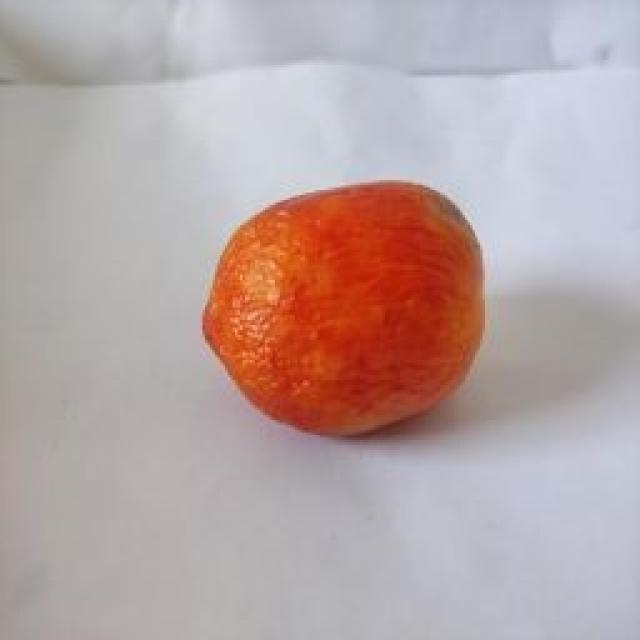overripe: (200, 177, 489, 439)
